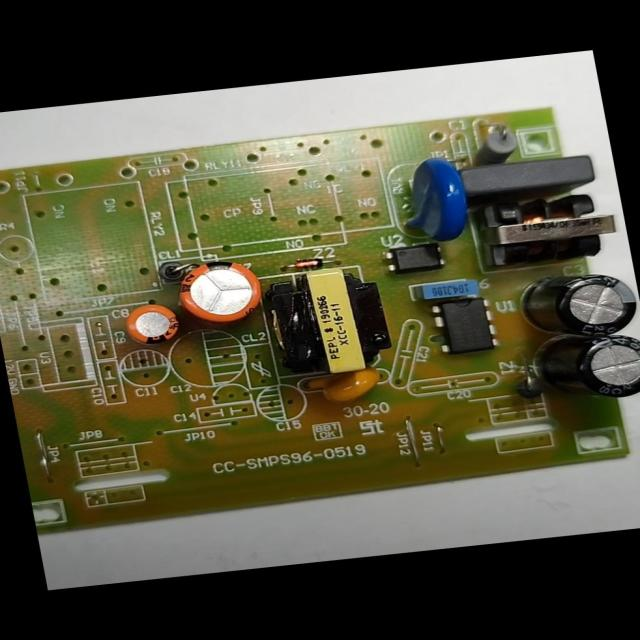Cap1: (168, 256, 267, 328)
Cap2: (119, 302, 184, 347)
Cap3: (509, 266, 639, 342)
Cap4: (533, 333, 639, 408)
MOSFET: (426, 297, 499, 354)
Mov: (388, 152, 471, 244)
Resistor: (461, 126, 523, 165)
Transformer: (265, 263, 397, 380), (472, 187, 624, 269)
